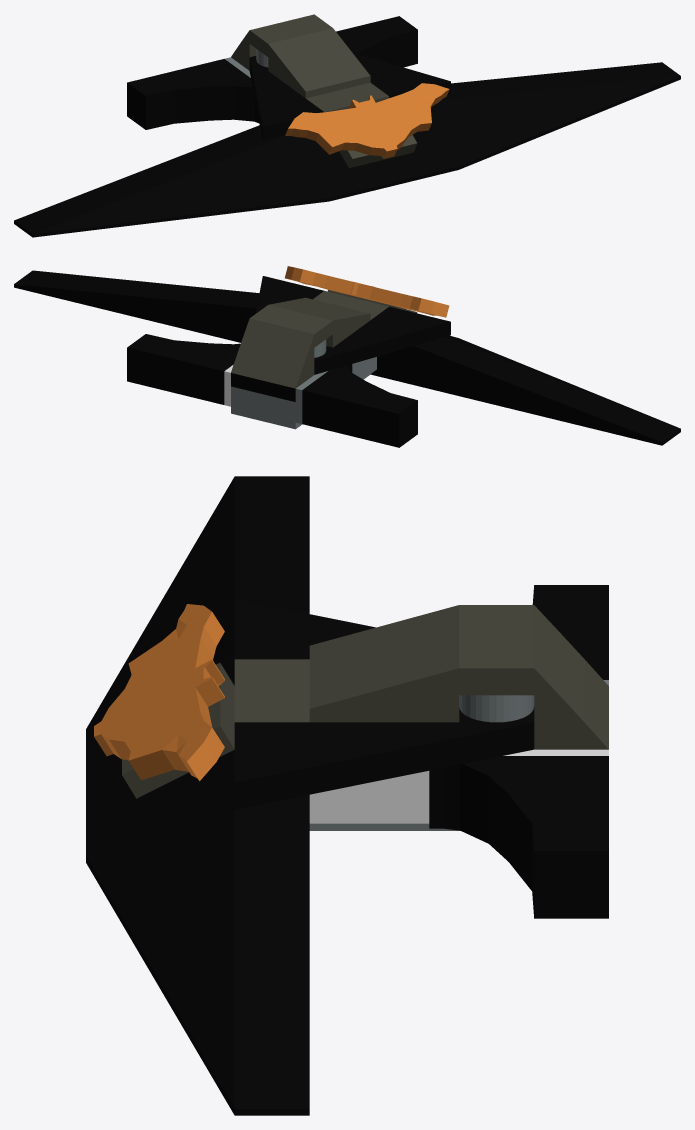
Rendered from wingLeft.dae.
3 renders of one model, top to bottom at view 1: azimuth 30°, elevation 25°; view 2: azimuth 150°, elevation 25°; view 3: azimuth 270°, elevation 25°, orthographic. The views are drawn at different scales.
Visible parts, largest first — view 1: wing_tip_black_right, wing_tip_black_left, wing_signal_holder_001, sign, engine_exhaust_dark_gray_2x2, black_triangle, wing_signal_holder, dark_gray_1x2_002, dark_gray_sign_holder, dark_gray_1x2_001, dark_gray_1x2; view 2: wing_tip_black_right, wing_tip_black_left, wing_signal_holder_001, dark_gray_1x2_002, wing_signal_holder, black_triangle, sign, engine_exhaust_dark_gray_2x2, light_gray_4x2, light_gray_4x2_001, black_4x2, ultra_thin_light_gray_1x4_001 (+2 smaller); view 3: wing_tip_black_left, black_triangle, wing_signal_holder, wing_tip_black_right, engine_exhaust_dark_gray_2x2, dark_gray_1x2_002, sign, ultra_thin_light_gray_1x4, wing_signal_holder_001, dark_gray_1x2_001, dark_gray_1x2, dark_gray_sign_holder (+2 smaller).
Boxes of the visible parts, <box> form: wing_tip_black_right: <box>14,125,393,237</box>; wing_tip_black_left: <box>381,62,680,185</box>; wing_signal_holder_001: <box>127,59,259,129</box>; sign: <box>285,83,449,158</box>; engine_exhaust_dark_gray_2x2: <box>268,28,370,98</box>; black_triangle: <box>249,53,450,140</box>; wing_signal_holder: <box>336,16,417,67</box>; dark_gray_1x2_002: <box>231,14,332,70</box>; dark_gray_sign_holder: <box>339,135,417,168</box>; dark_gray_1x2_001: <box>306,90,351,112</box>; dark_gray_1x2: <box>338,82,389,102</box>; wing_tip_black_right: <box>370,335,680,445</box>; wing_tip_black_left: <box>14,270,259,342</box>; wing_signal_holder_001: <box>302,364,417,447</box>; dark_gray_1x2_002: <box>231,305,332,388</box>; wing_signal_holder: <box>127,334,240,404</box>; black_triangle: <box>255,276,450,374</box>; sign: <box>285,266,449,317</box>; engine_exhaust_dark_gray_2x2: <box>269,297,370,347</box>; light_gray_4x2: <box>231,374,370,429</box>; light_gray_4x2_001: <box>231,386,295,415</box>; black_4x2: <box>231,373,295,401</box>; ultra_thin_light_gray_1x4_001: <box>295,357,376,423</box>; wing_tip_black_left: <box>86,750,309,1115</box>; black_triangle: <box>234,599,534,809</box>; wing_signal_holder: <box>429,756,608,918</box>; wing_tip_black_right: <box>86,476,309,792</box>; engine_exhaust_dark_gray_2x2: <box>309,605,459,722</box>; dark_gray_1x2_002: <box>459,605,608,749</box>; sign: <box>94,604,224,781</box>; ultra_thin_light_gray_1x4: <box>309,749,608,823</box>; wing_signal_holder_001: <box>532,585,608,679</box>; dark_gray_1x2_001: <box>234,659,309,690</box>; dark_gray_1x2: <box>234,691,309,722</box>; dark_gray_sign_holder: <box>122,663,234,798</box>.
Size of the model in its own units: 160 by 55.9 by 19.2.
